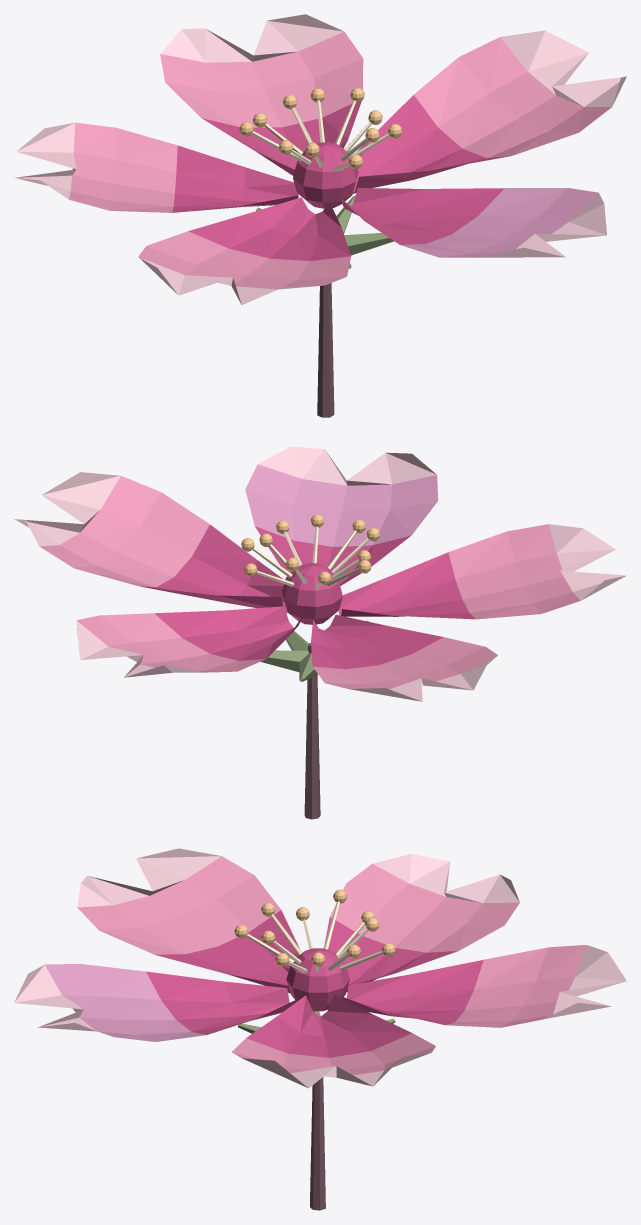
The model's file is open-blossom.glb.
The picture shows the model from 3 angles, top to bottom: view 1: azimuth 30°, elevation 25°; view 2: azimuth 150°, elevation 25°; view 3: azimuth 270°, elevation 25°; orthographic projection. The views are drawn at different scales.
Parts seen in each view (by area): view 1: open blossom · petal 1, open blossom · petal 5, open blossom · heart, short pedicel, open blossom · anther 1, open blossom · filament 1, open blossom · sepal 1; view 2: open blossom · petal 1, open blossom · petal 5, open blossom · heart, short pedicel, open blossom · anther 1, open blossom · filament 1, open blossom · sepal 1; view 3: open blossom · petal 1, open blossom · petal 5, open blossom · heart, short pedicel, open blossom · anther 1, open blossom · filament 1.
Part boxes in pixels (box(x1,y1,x2,y2)): open blossom · petal 1: box(14, 14, 626, 304); open blossom · petal 5: box(401, 188, 598, 257); open blossom · heart: box(293, 142, 358, 208); short pedicel: box(317, 283, 334, 417); open blossom · anther 1: box(239, 87, 402, 168); open blossom · filament 1: box(252, 100, 389, 171); open blossom · sepal 1: box(256, 196, 393, 268); open blossom · petal 1: box(14, 446, 626, 701); open blossom · petal 5: box(245, 464, 438, 546); open blossom · heart: box(282, 563, 342, 624); short pedicel: box(304, 643, 320, 819); open blossom · anther 1: box(241, 514, 380, 585); open blossom · filament 1: box(252, 526, 369, 588); open blossom · sepal 1: box(260, 620, 368, 681); open blossom · petal 1: box(14, 848, 626, 1088); open blossom · petal 5: box(45, 964, 206, 1041); open blossom · heart: box(286, 948, 349, 1011); short pedicel: box(310, 1077, 325, 1210); open blossom · anther 1: box(234, 889, 395, 966); open blossom · filament 1: box(246, 901, 382, 973).
Bounding box in the file's own units: 0.2597 × 0.1381 × 0.2687.
